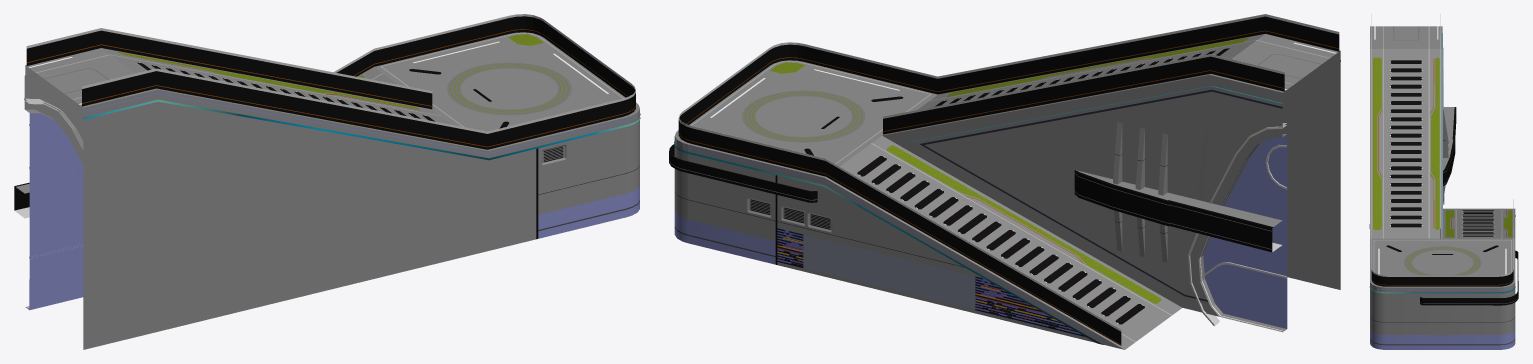
File: W_M_maze_BelvedereStair_A_L1.fbx
The picture shows the model from 3 angles, left to right: view 1: azimuth 30°, elevation 25°; view 2: azimuth 150°, elevation 25°; view 3: azimuth 270°, elevation 25°; orthographic projection. The views are drawn at different scales.
Parts seen in each view (by area): view 1: W_M_maze_BelvedereStair_A_L1; view 2: W_M_maze_BelvedereStair_A_L1; view 3: W_M_maze_BelvedereStair_A_L1.
Part boxes in pixels (left/top/right/bottom): W_M_maze_BelvedereStair_A_L1: left=14, top=14, right=640, bottom=349; W_M_maze_BelvedereStair_A_L1: left=669, top=14, right=1340, bottom=349; W_M_maze_BelvedereStair_A_L1: left=1369, top=14, right=1518, bottom=349.
Size of the model in its own units: 32.87 by 11.92 by 14.98.
